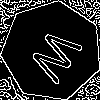W: (26, 26, 92, 91)
